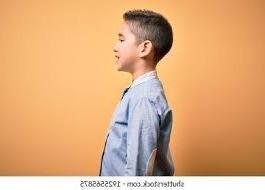Human: (101, 10, 184, 190)
